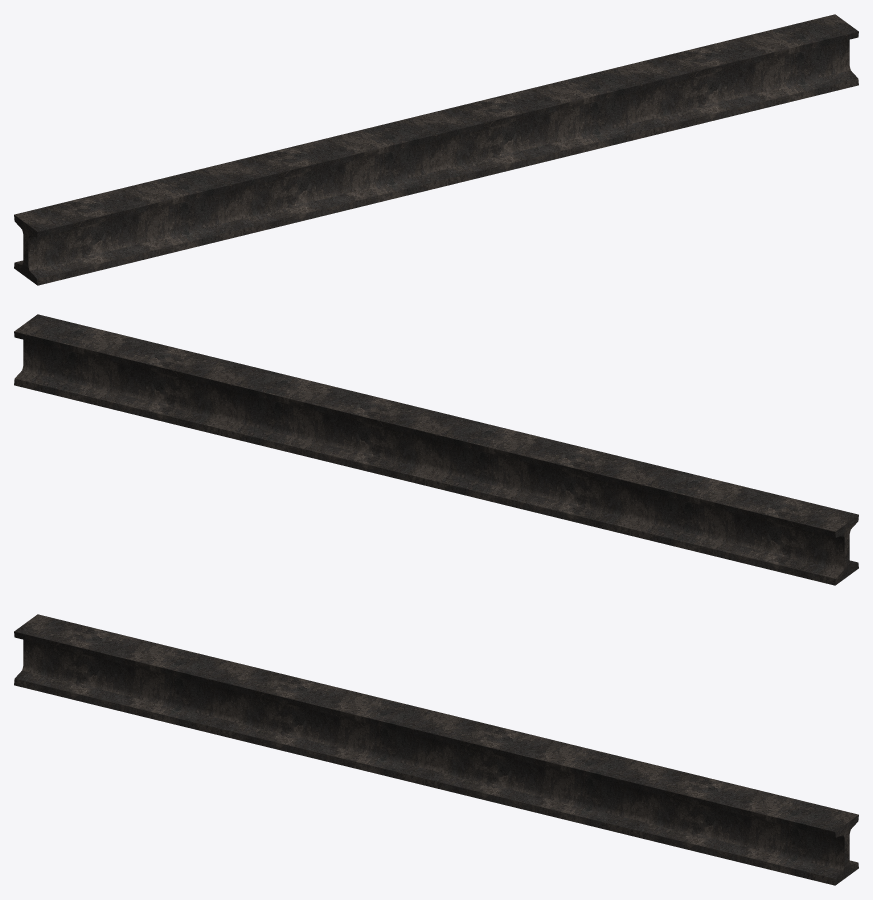
Rendered from beam_4.glb.
3 renders of one model, top to bottom at view 1: azimuth 30°, elevation 25°; view 2: azimuth 150°, elevation 25°; view 3: azimuth 330°, elevation 25°, orthographic.
Visible parts, largest first — view 1: beam_4; view 2: beam_4; view 3: beam_4.
Boxes of the visible parts, <box> form: beam_4: <box>14,14,858,285</box>; beam_4: <box>14,314,858,585</box>; beam_4: <box>14,614,858,885</box>.
Bounding box in the file's own units: 4 × 0.25 × 0.2.
1 material, 1 textured.
